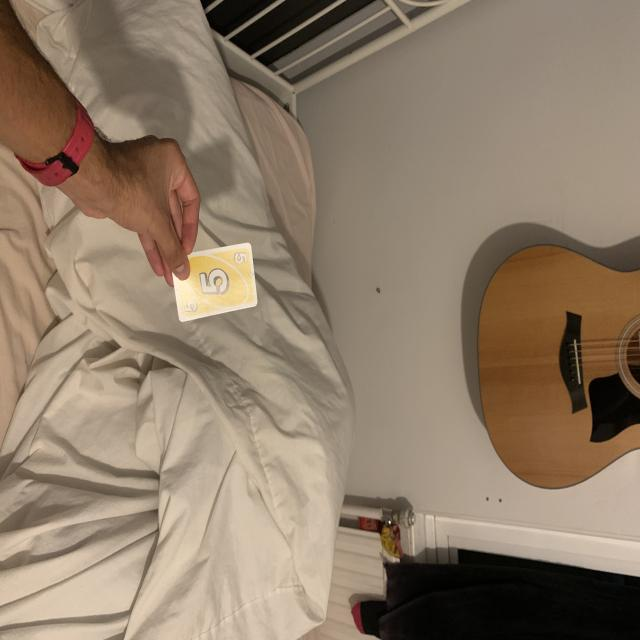lyellow-5: (228, 246, 251, 268)
